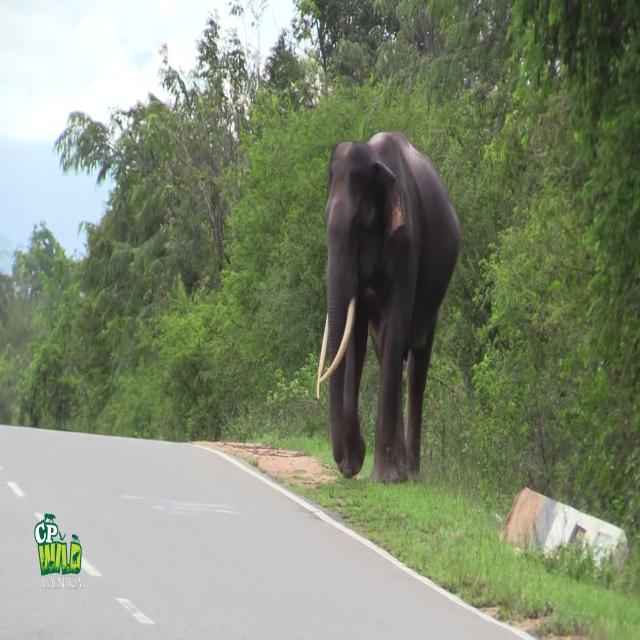Elephant: (316, 129, 461, 484)
